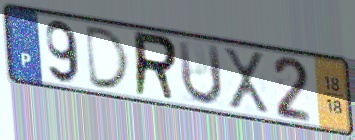2: (271, 55, 313, 125)
9: (44, 19, 83, 86)
D: (84, 24, 134, 92)
R: (132, 28, 180, 104)
U: (175, 38, 225, 108)
X: (221, 45, 272, 116)
